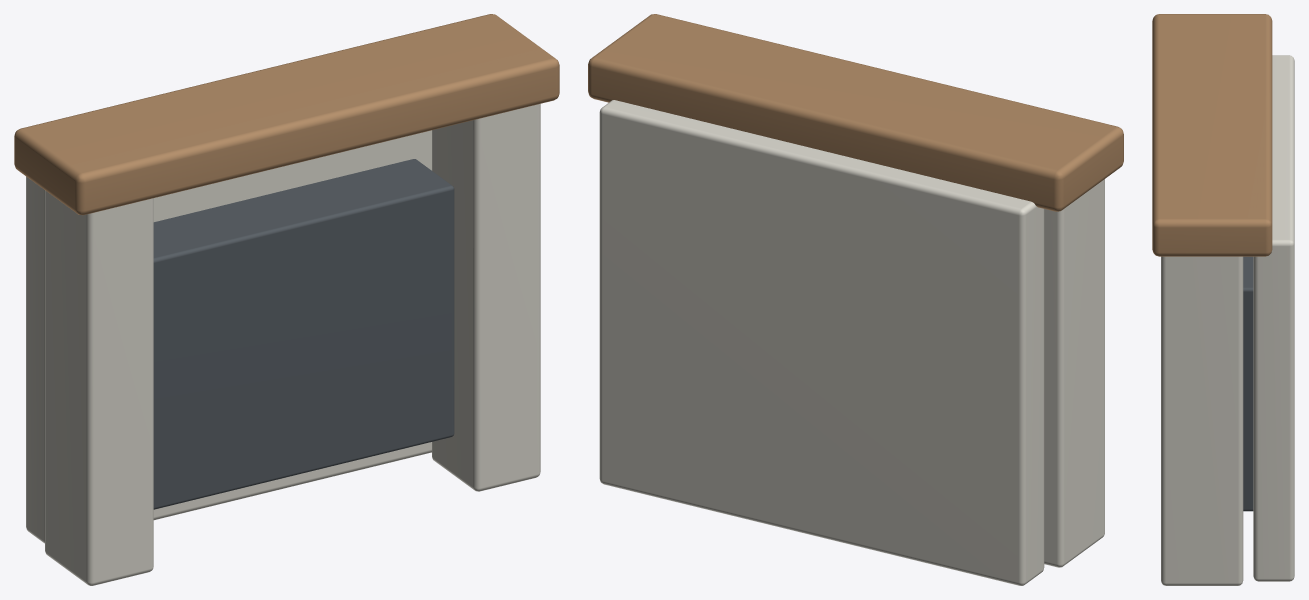
The model's file is atelier-fireplace-mantel.glb.
The picture shows the model from 3 angles, left to right: view 1: azimuth 30°, elevation 25°; view 2: azimuth 150°, elevation 25°; view 3: azimuth 270°, elevation 25°; orthographic projection. The views are drawn at different scales.
Visible parts, largest first — view 1: ceramic.139, metal.187, legs.214; view 2: ceramic.139, legs.214; view 3: ceramic.139, legs.214, metal.187.
Boxes of the visible parts, x1,y1,x2,y2 form: ceramic.139: (26,104,540,585); metal.187: (153,159,454,509); legs.214: (14,14,559,215); ceramic.139: (599,100,1104,585); legs.214: (588,14,1123,211); ceramic.139: (1161,55,1294,585); legs.214: (1152,14,1272,256); metal.187: (1243,256,1253,511).
Size of the model in its own units: 1.45 by 1.2 by 0.415.
